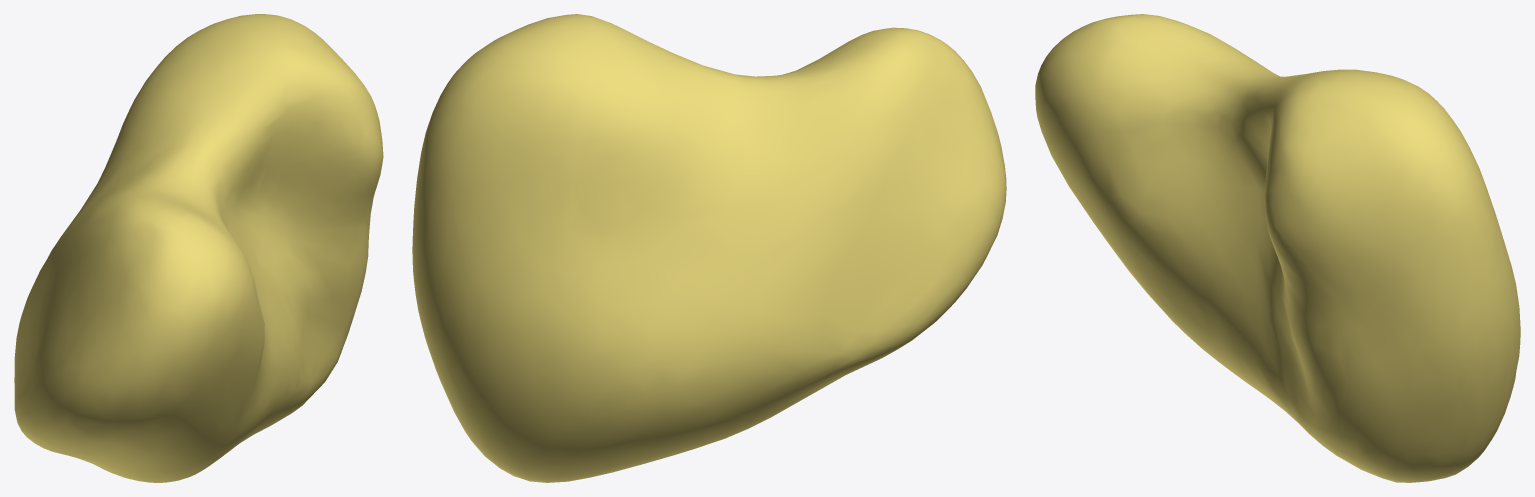
The model's file is tonsil-of-cerebellum-r.glb.
3 renders of one model, left to right at view 1: azimuth 30°, elevation 25°; view 2: azimuth 150°, elevation 25°; view 3: azimuth 270°, elevation 25°, orthographic. The views are drawn at different scales.
Parts seen in each view (by area): view 1: Tonsil of cerebellum.r; view 2: Tonsil of cerebellum.r; view 3: Tonsil of cerebellum.r.
Boxes of the visible parts, <box> form: Tonsil of cerebellum.r: <box>14,14,383,482</box>; Tonsil of cerebellum.r: <box>412,14,1006,482</box>; Tonsil of cerebellum.r: <box>1035,14,1520,482</box>.
Bounding box in the file's own units: 0.0218 × 0.0205 × 0.0224.
